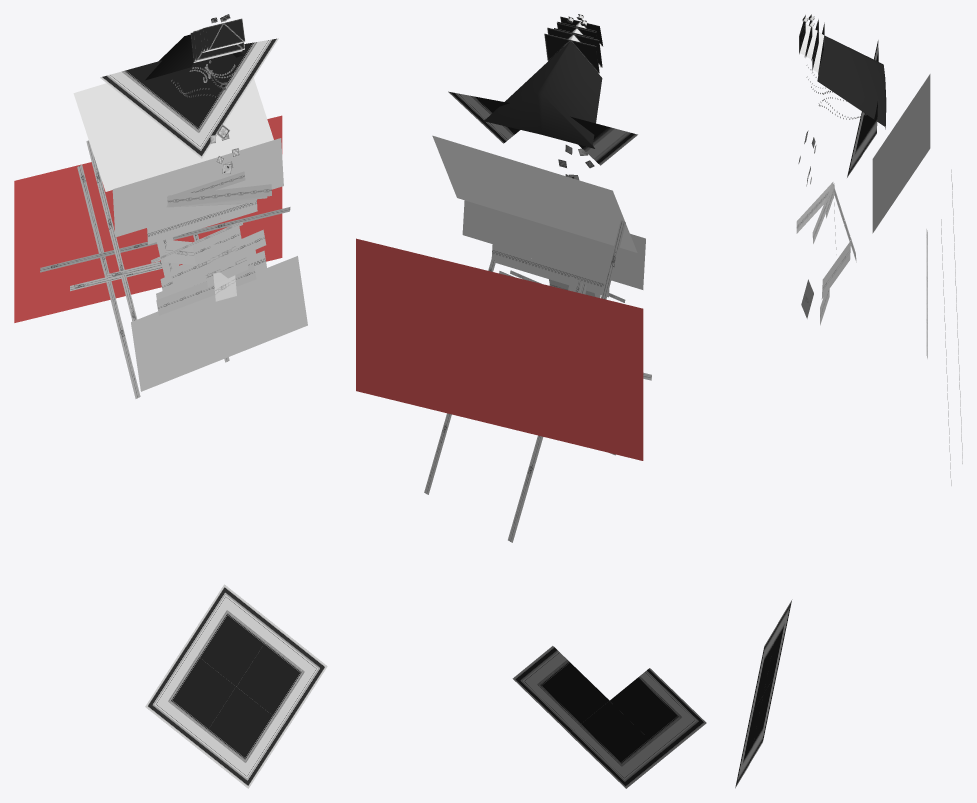
Rendered from 00_new_10error.dae.
3 views of the same model, side by side, from view 1: azimuth 30°, elevation 25°; view 2: azimuth 150°, elevation 25°; view 3: azimuth 270°, elevation 25° (orthographic). The views are drawn at different scales.
Visible parts, largest first — view 1: salmone, bianco.1, bianco.2, bordo_01.1 (×2), bordo_01 (×2), bordo_01.3 (×2), bianco, bordo_01.2, nero, topgrande2, cinturone, topgrande2.4; view 2: salmone, bianco.2, nero, bianco, bordo_01 (×2), bordo_01.3 (×2), bordo_01.1, topgrande2.5; view 3: bianco.2, nero, bordo_01.1 (×2), bordo_01.3, bordo_01.2, bordo_01.
Part boxes in pixels (x1,y1,x2,y2): salmone: [14, 115, 282, 322]; bianco.1: [131, 256, 307, 391]; bianco.2: [73, 78, 273, 191]; bordo_01.1 (×2): [150, 62, 287, 788]; bordo_01 (×2): [100, 60, 235, 747]; bordo_01.3 (×2): [197, 38, 327, 727]; bianco: [112, 138, 283, 237]; bordo_01.2: [185, 584, 275, 686]; nero: [145, 34, 243, 80]; topgrande2: [205, 18, 245, 50]; cinturone: [210, 239, 235, 271]; topgrande2.4: [193, 29, 244, 61]; salmone: [356, 238, 643, 460]; bianco.2: [432, 135, 637, 252]; nero: [483, 41, 602, 148]; bianco: [462, 200, 645, 289]; bordo_01 (×2): [570, 116, 706, 755]; bordo_01.3 (×2): [448, 91, 609, 733]; bordo_01.1: [569, 701, 665, 788]; topgrande2.5: [544, 33, 599, 73]; bianco.2: [872, 74, 930, 233]; nero: [817, 36, 886, 129]; bordo_01.1 (×2): [735, 111, 870, 788]; bordo_01.3: [749, 671, 777, 764]; bordo_01.2: [763, 599, 792, 693]; bordo_01: [750, 624, 777, 716].
Bounding box in the file's own units: 2212 × 5878 × 1563.
22 materials, 19 textured.
